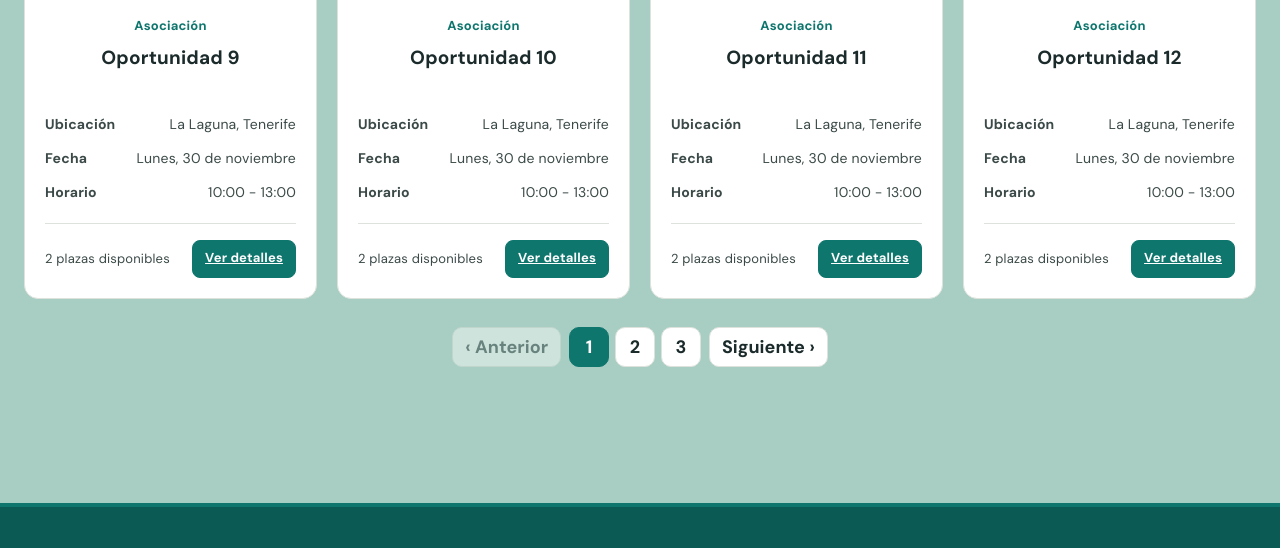
Test case: Oportunidades: paginacion › cambia de pagina y vuelve a la primera al filtrar
(page scrolled)
Click the button named "Página 3".
click(681, 347)  # box [661,327,701,367]
(page scrolled)
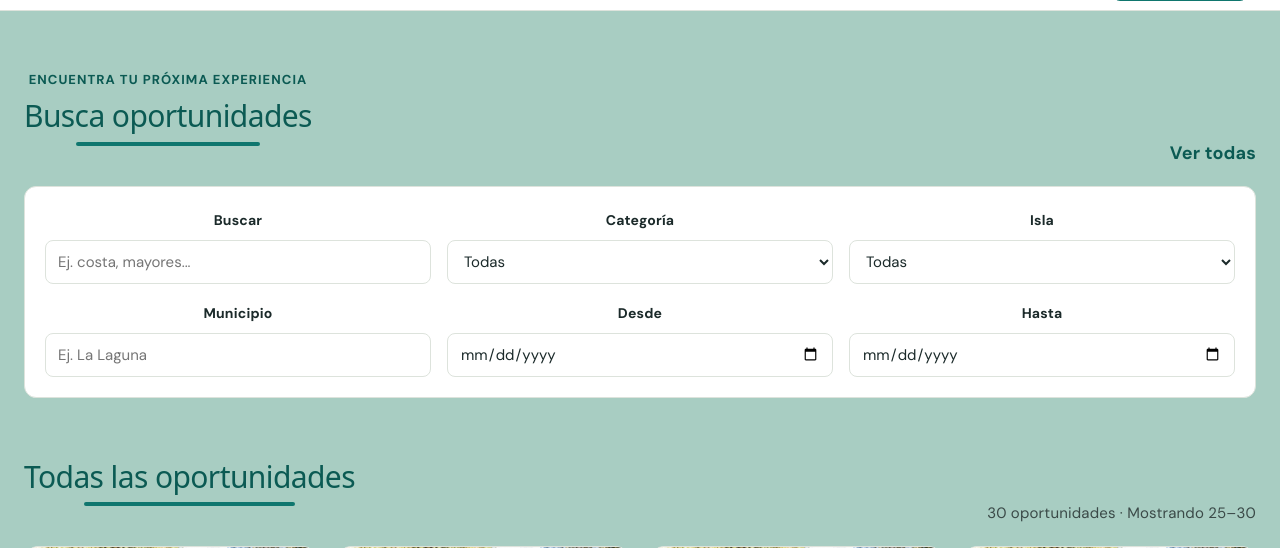
Expected: the text "30 oportunidades · Mostrando 25–30" is shown, [987,500,1256,526]
Select "Tenerife" in the dropdown labelled "Isla" at (1042, 262), box [849,240,1235,284]
(page scrolled)
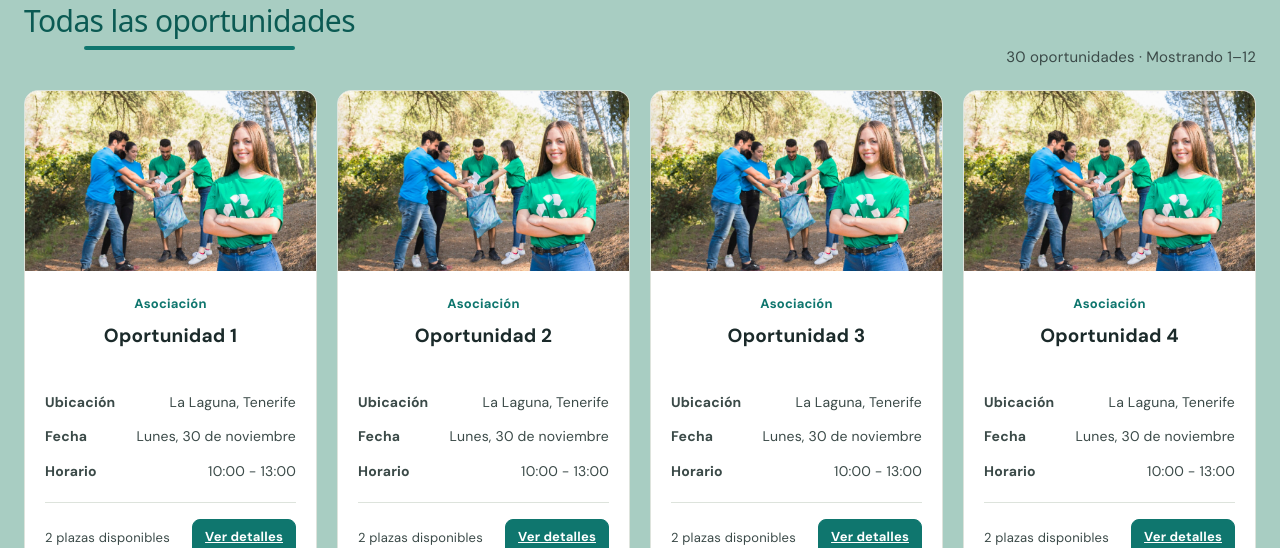
Expected: the heading "Oportunidad 1" is shown, [104,323,237,348]
